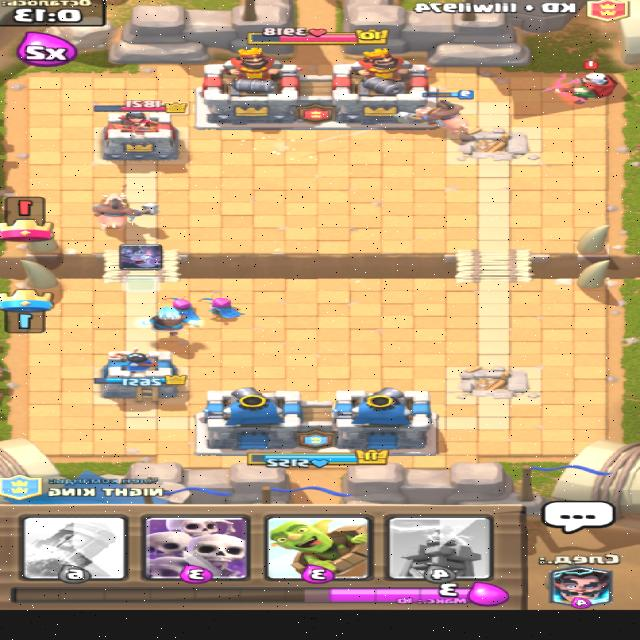Enemy-MagicArcher: (543, 59, 622, 108)
Player-Archer: (198, 291, 248, 319), (165, 293, 204, 323)
Player-HogRider: (408, 89, 479, 138), (89, 191, 162, 231)
Player-IceWizard: (139, 306, 201, 336)
